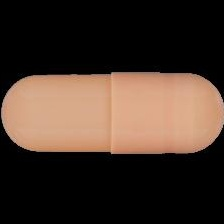65862-209: (0, 0, 224, 224)
